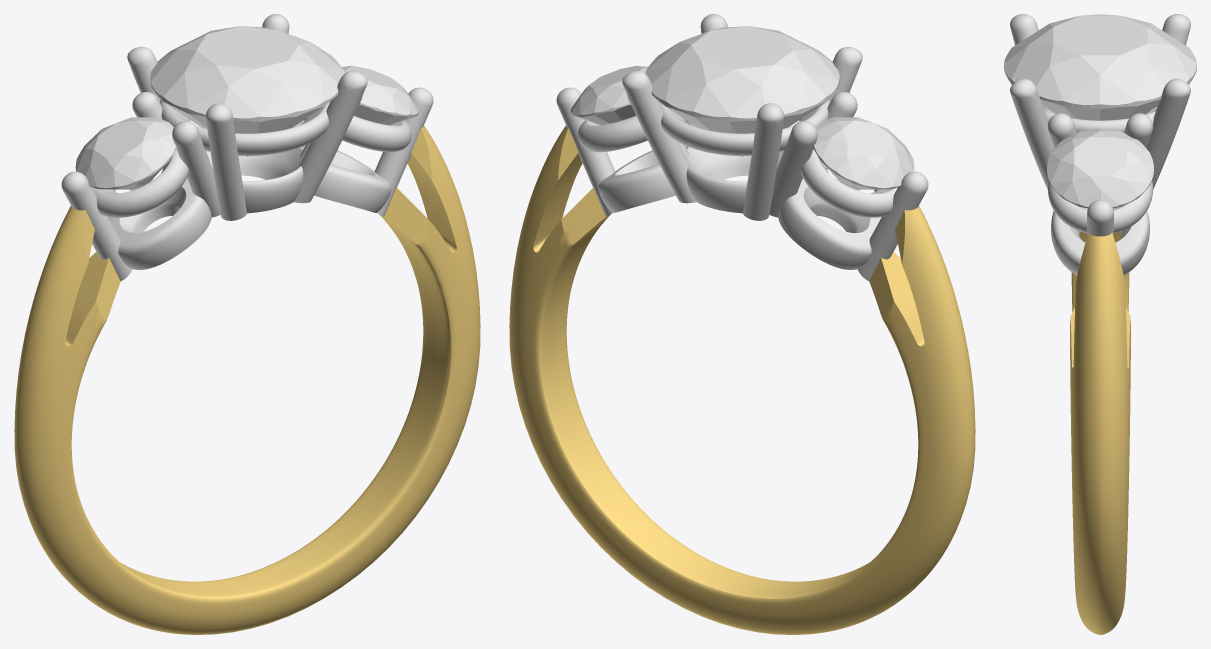
Rendered from Sam_freedman_simple_blender.glb.
3 views of the same model, side by side, from view 1: azimuth 30°, elevation 25°; view 2: azimuth 150°, elevation 25°; view 3: azimuth 270°, elevation 25° (orthographic).
Parts seen in each view (by area): view 1: Sam YG for 3d model, Sam simple PT for 3d model 2, Sam dia for 3d model.001, Sam dia for 3d model, Sam dia for 3d model.002; view 2: Sam YG for 3d model, Sam simple PT for 3d model 2, Sam dia for 3d model.001, Sam dia for 3d model, Sam dia for 3d model.002; view 3: Sam YG for 3d model, Sam dia for 3d model.001, Sam simple PT for 3d model 2, Sam dia for 3d model.002.
Part boxes in pixels (x1,y1,x2,y2): Sam YG for 3d model: [14, 125, 480, 634]; Sam simple PT for 3d model 2: [61, 14, 433, 280]; Sam dia for 3d model.001: [150, 26, 344, 156]; Sam dia for 3d model: [75, 117, 176, 189]; Sam dia for 3d model.002: [342, 65, 419, 125]; Sam YG for 3d model: [509, 125, 975, 634]; Sam simple PT for 3d model 2: [556, 14, 928, 280]; Sam dia for 3d model.001: [645, 26, 839, 156]; Sam dia for 3d model: [813, 117, 914, 189]; Sam dia for 3d model.002: [570, 65, 647, 125]; Sam YG for 3d model: [1070, 232, 1130, 634]; Sam dia for 3d model.001: [1004, 14, 1196, 120]; Sam simple PT for 3d model 2: [1010, 14, 1190, 275]; Sam dia for 3d model.002: [1047, 128, 1153, 208].
Bounding box in the file's own units: 19.7 × 23.7 × 7.2.
